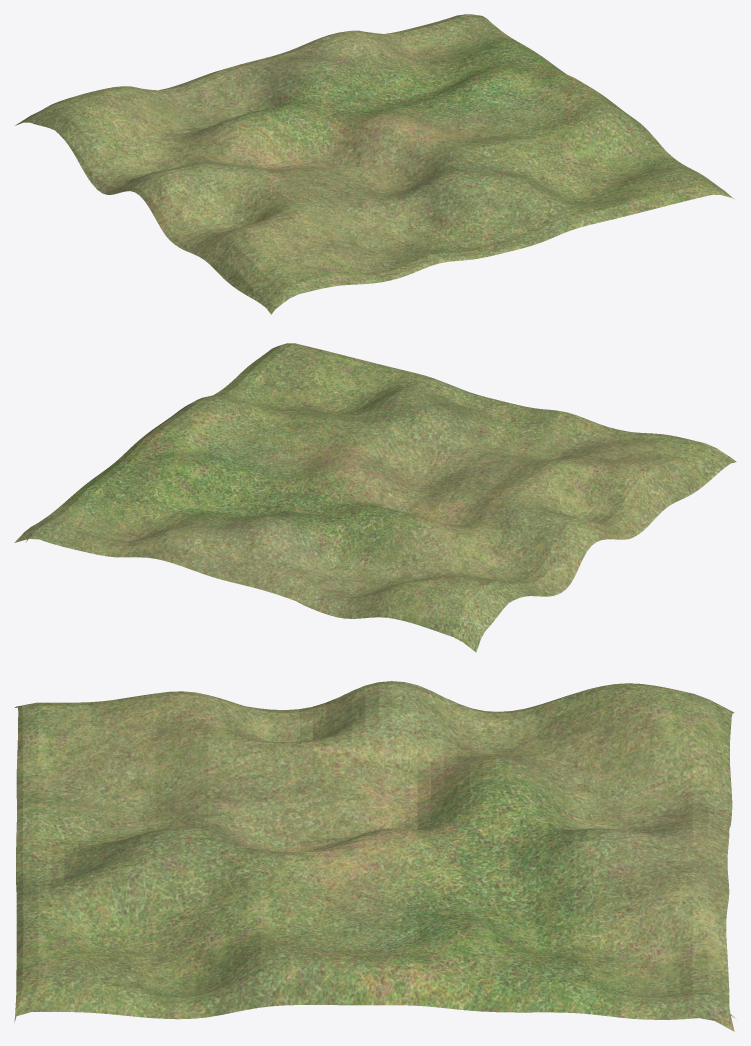
Rendered from Land.glb.
3 views of the same model, one above another, from view 1: azimuth 30°, elevation 25°; view 2: azimuth 150°, elevation 25°; view 3: azimuth 270°, elevation 25° (orthographic). The views are drawn at different scales.
Visible parts, largest first — view 1: map2; view 2: map2; view 3: map2.
Boxes of the visible parts, box(x1,y1,x2,y2) form: map2: box(15, 14, 733, 314); map2: box(14, 343, 736, 652); map2: box(14, 681, 735, 1031).
Bounding box in the file's own units: 17.87 × 1.4 × 17.27.
1 material, 1 textured.
